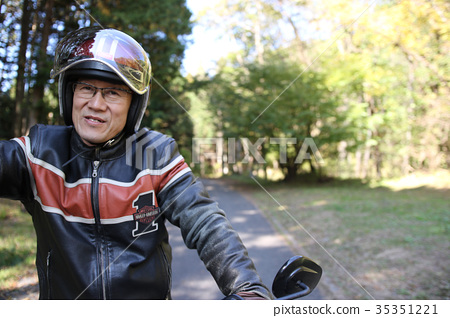helmet: (58, 32, 156, 132)
